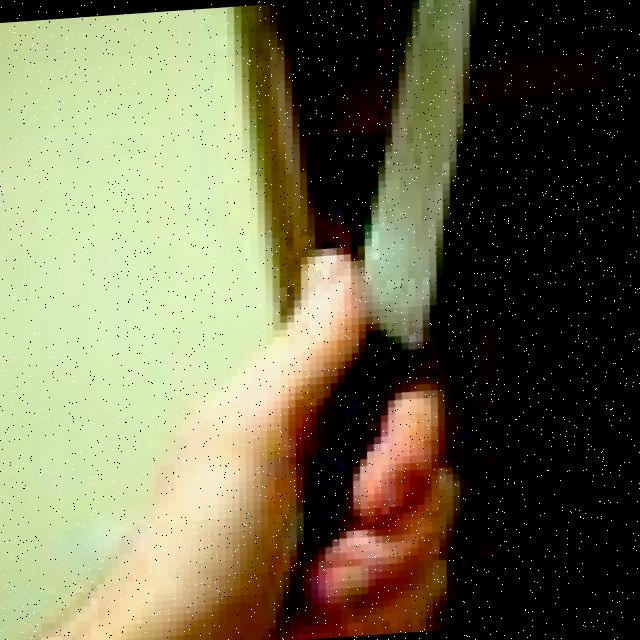knife: (211, 0, 513, 640)
